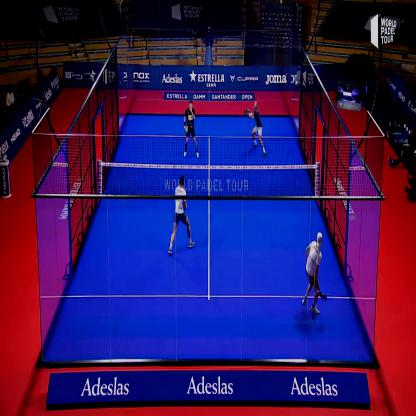ball: (277, 0, 285, 8)
